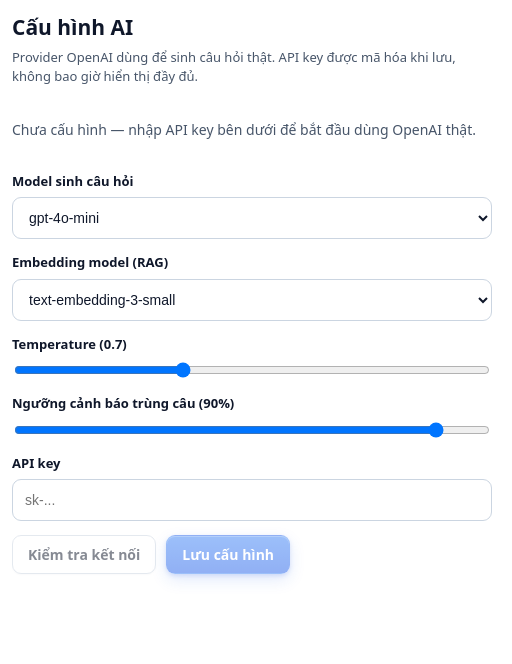
Test: AdminAIConfigPage › gọi kiểm tra kết nối và hiển thị kết quả thành công
The image size is (512, 664).
Expected: the text "Chưa cấu hình" is shown, top-left (12, 120), bottom-right (476, 138)
Step 1. Type "sk-test-key" into the password field with placeholder "sk-..." → (252, 500), box top-left (12, 479), bottom-right (492, 521)
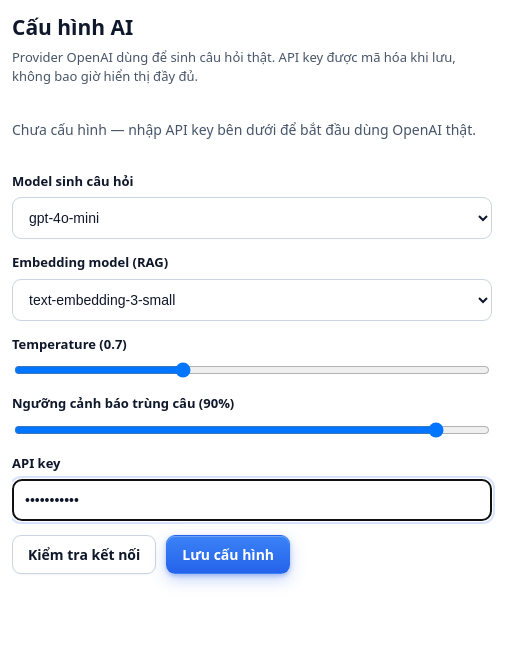
Step 2. Click the button "Kiểm tra kết nối" → click(84, 554), box top-left (12, 535), bottom-right (156, 574)
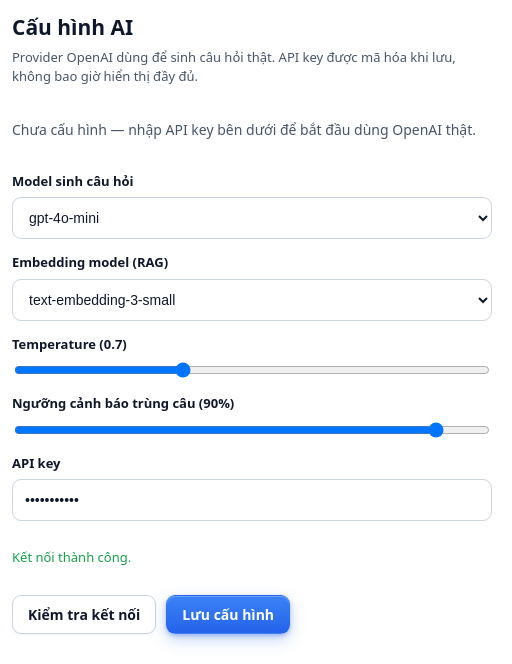
Result: the text "Kết nối thành công." is shown at top-left (12, 548), bottom-right (131, 566)
